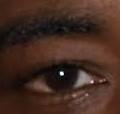open: (3, 49, 120, 114)
